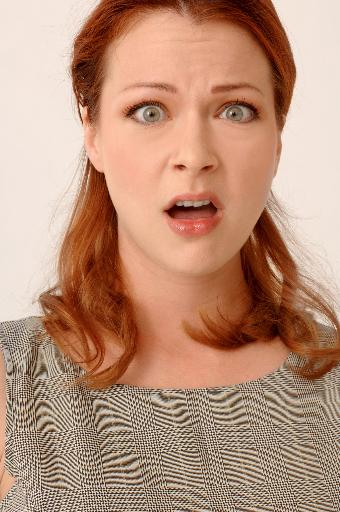left_eye: (214, 102, 261, 129)
left_lip_corner: (218, 202, 227, 219)
right_eye: (125, 103, 172, 129)
right_lip_corner: (160, 204, 171, 222)
